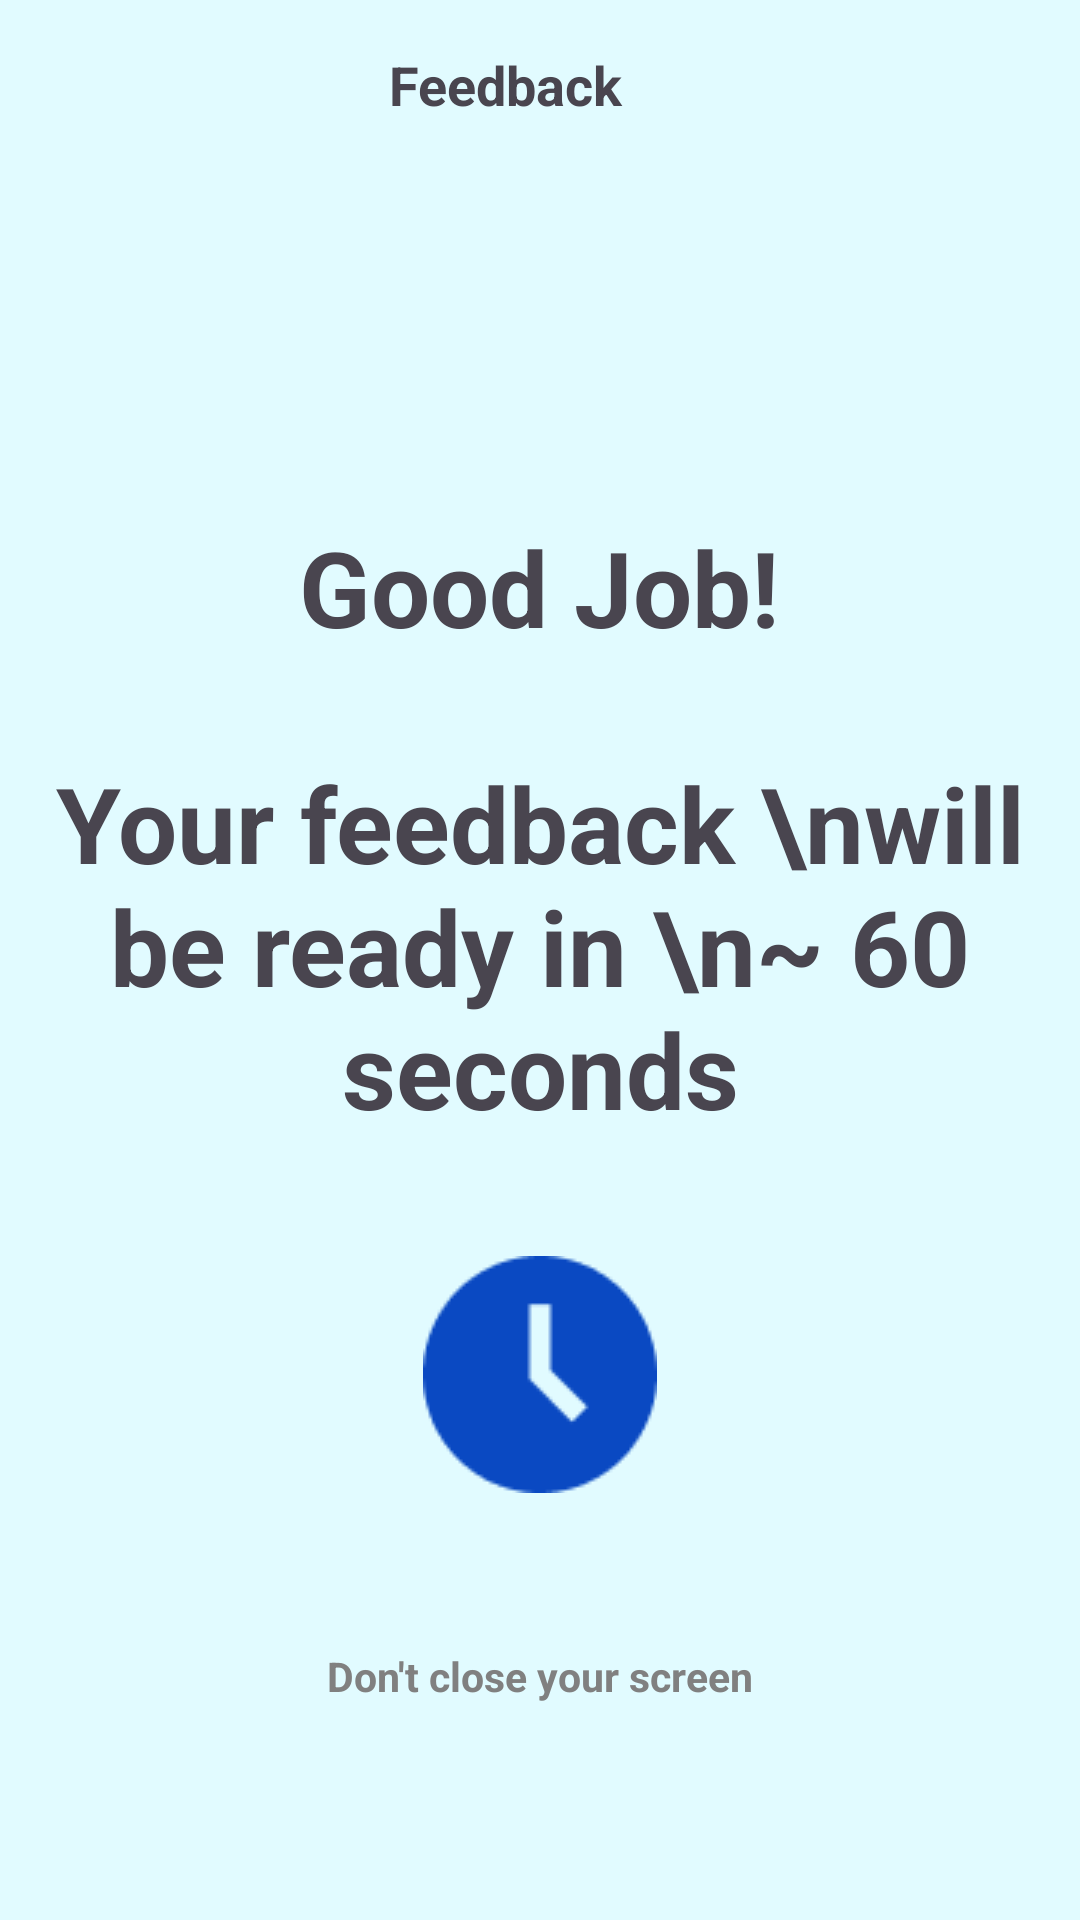

Icon click points for this 1080x1920 phone screenshot, format point (x, y):
aipitching loadingperformance clockicon: point (540, 1374)
